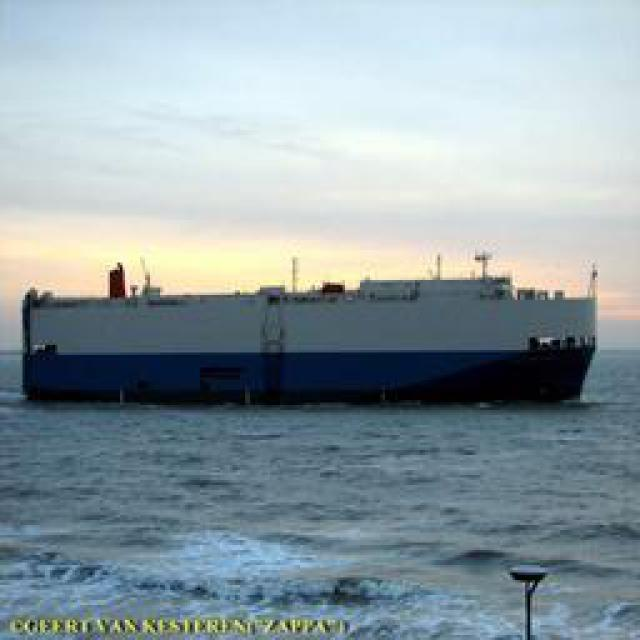Ship: (26, 260, 589, 410)
